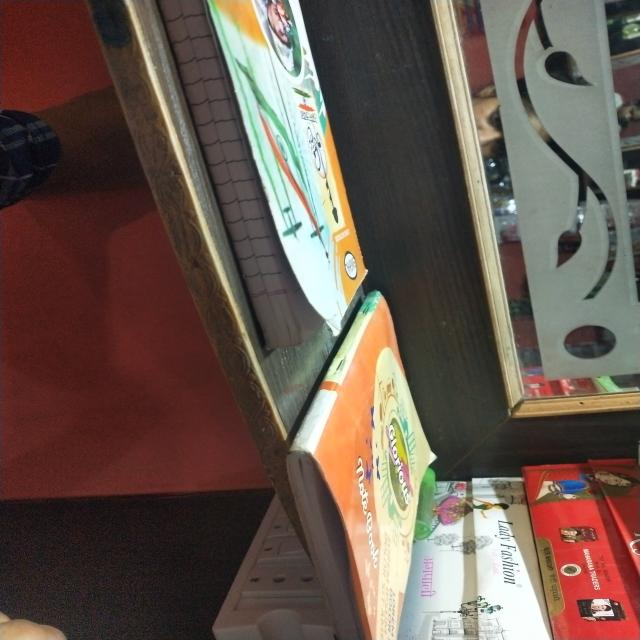book: (182, 2, 380, 359), (294, 284, 448, 640)
